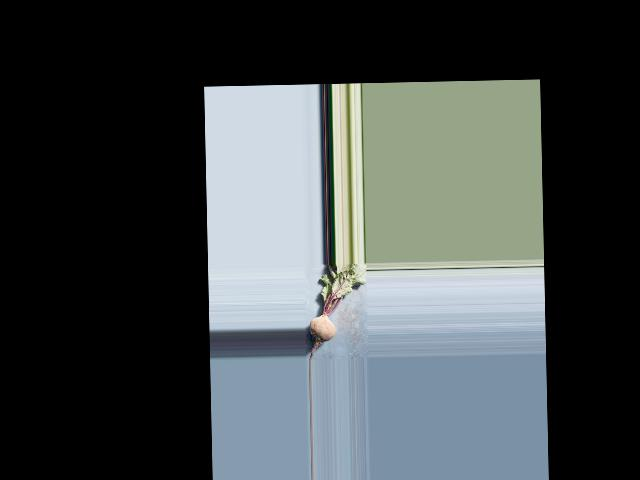beet: (307, 262, 368, 359)
